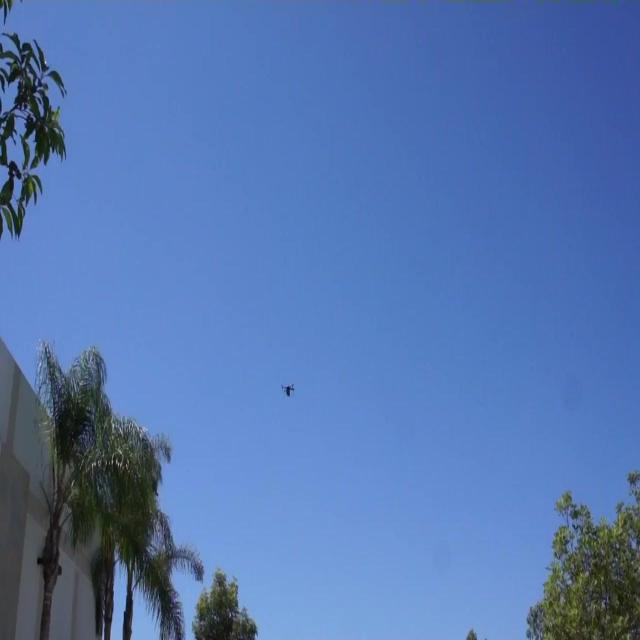UAV: (280, 384, 294, 396)
